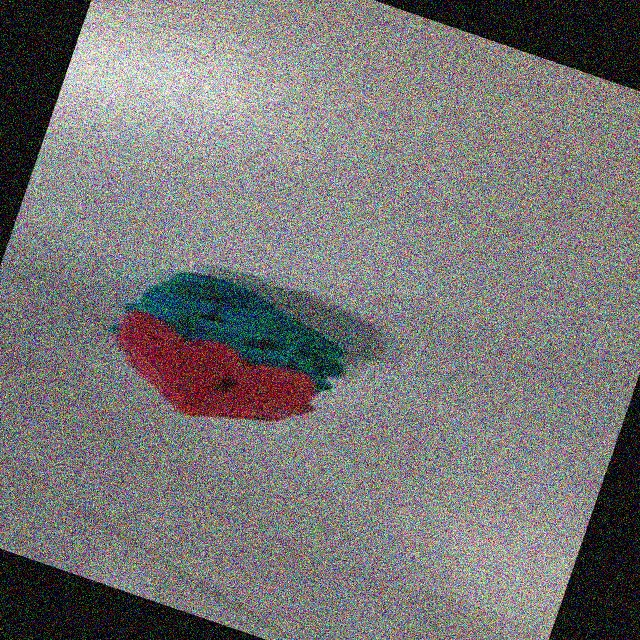House: (85, 247, 386, 477)
